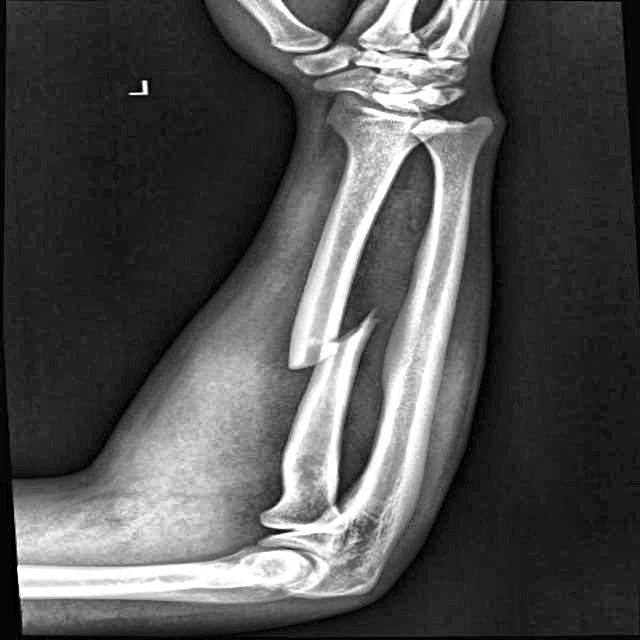Oblique: (256, 297, 390, 391)
